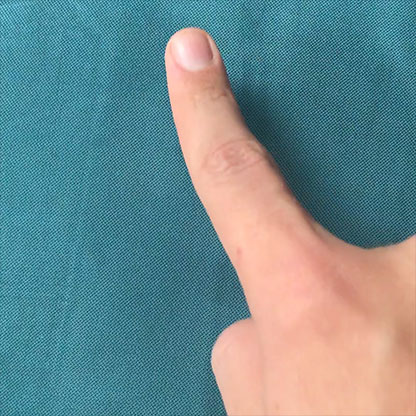fingertip: (147, 17, 236, 87)
